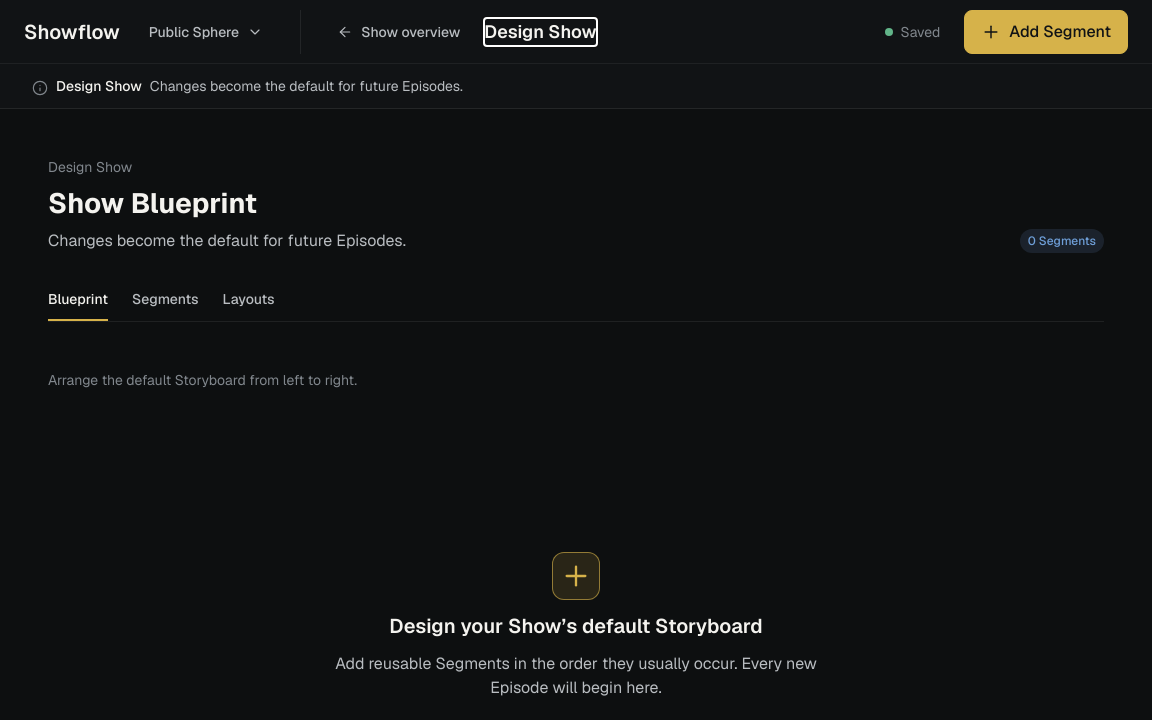
Test: App › restores a persisted Design Show route
Expected: the heading "Design your Show’s default Storyboard" is shown, [389, 612, 763, 640]
Click the link with aria-label "Back to Show overview".
click(399, 32)  # box [337, 22, 460, 40]
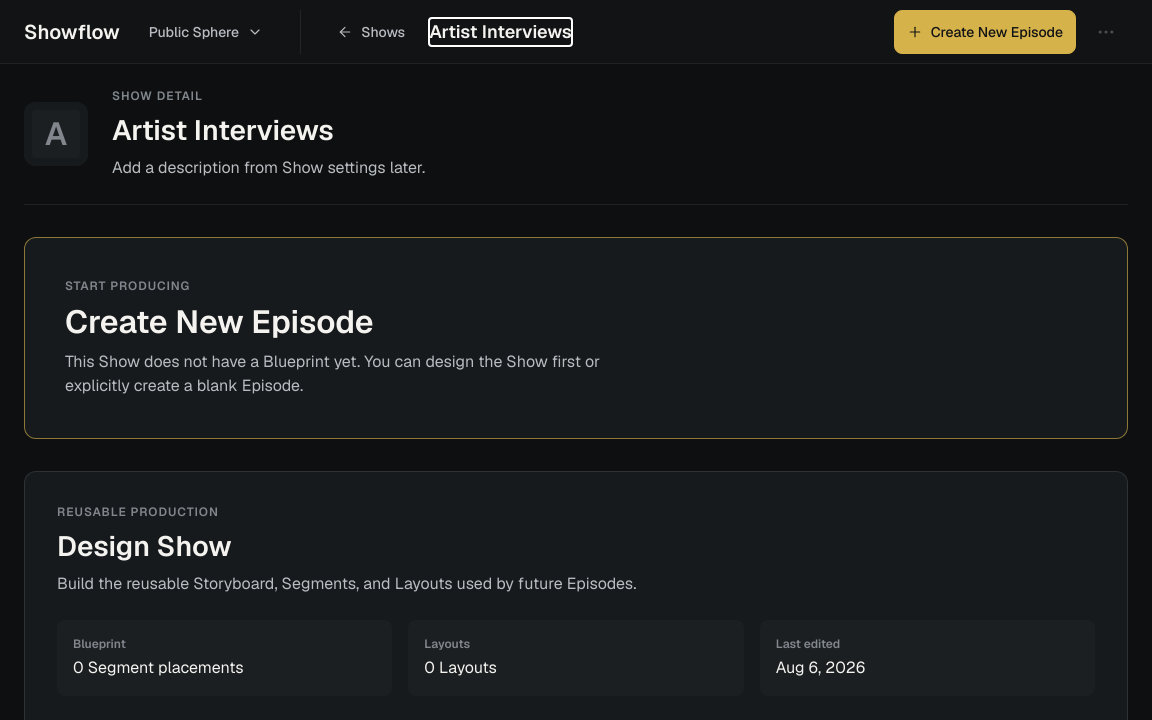
Result: the heading "Create New Episode" is shown at [65, 301, 374, 342]
